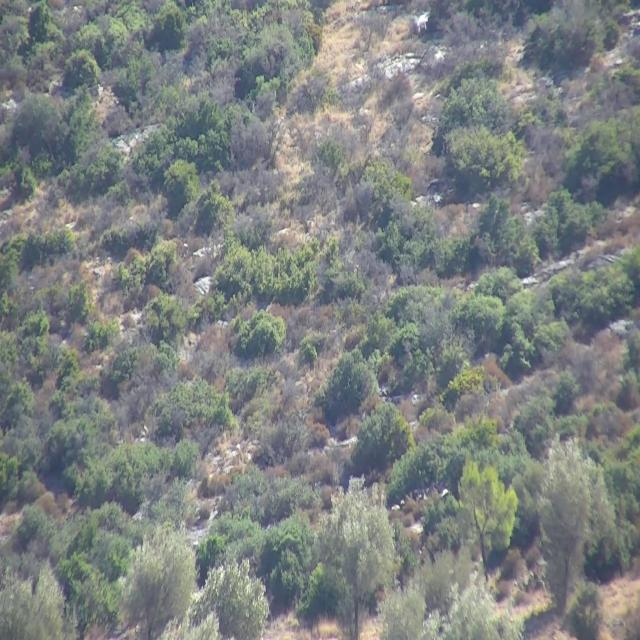drone: (408, 9, 438, 34)
